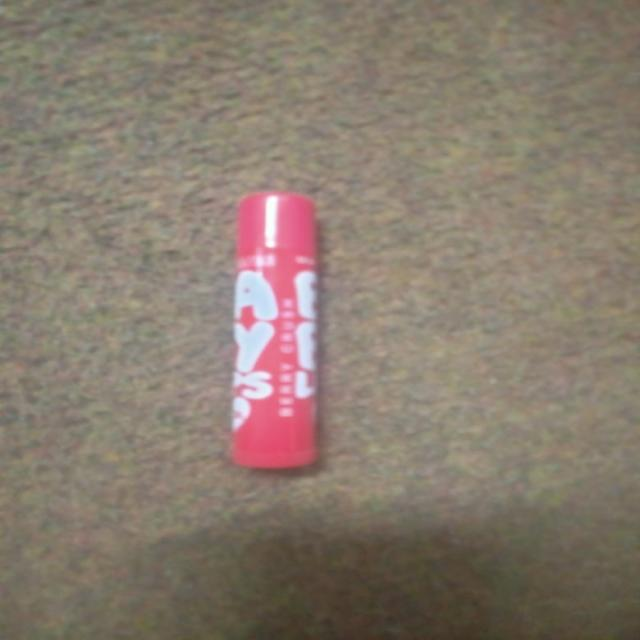lip shade: (212, 162, 334, 484)
